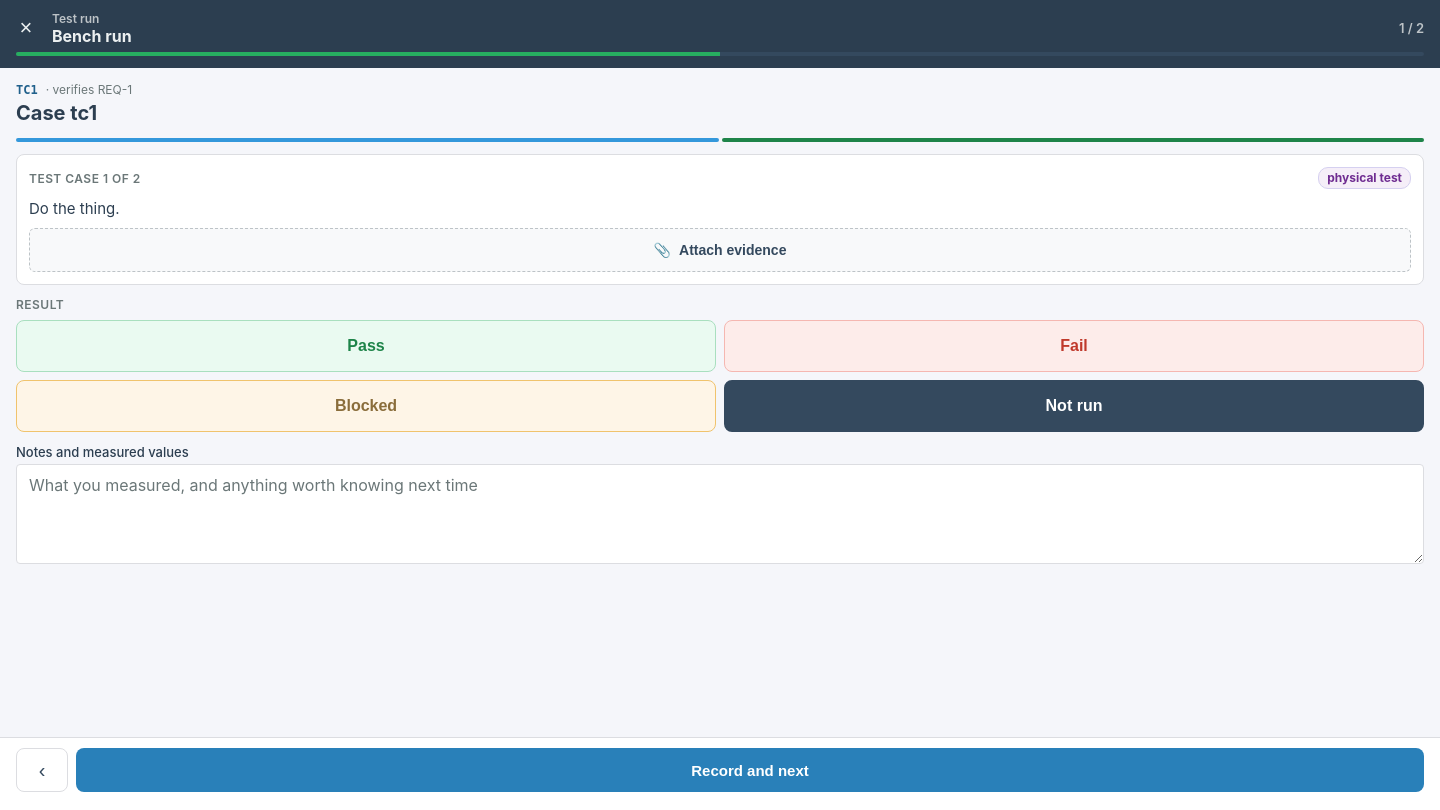
Test: skips an untouched test case without recording it, and is read-only on a closed run
The width and height of the screenshot is (1440, 810).
Step 1. Click the button "Record and next" → (750, 770), box x1=76 y1=748 x2=1424 y2=792
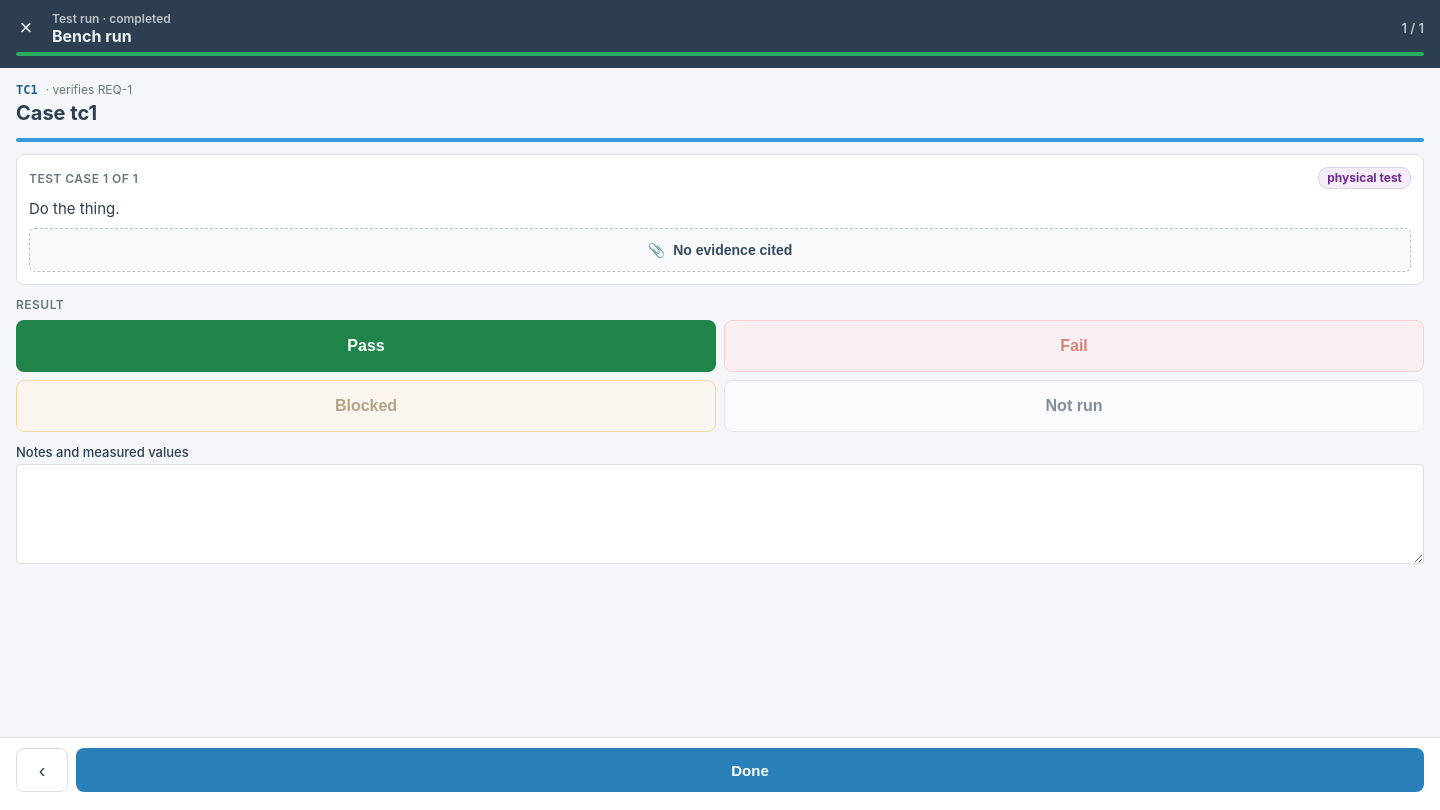
Check: the button "Fail" is disabled, box x1=724 y1=320 x2=1424 y2=372
